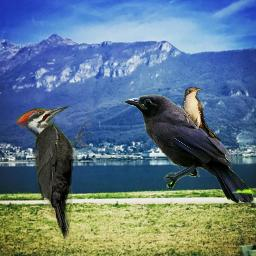Crow: (124, 94, 255, 204)
Cuckoo: (182, 87, 221, 144)
Woodpecker: (15, 105, 93, 241)
